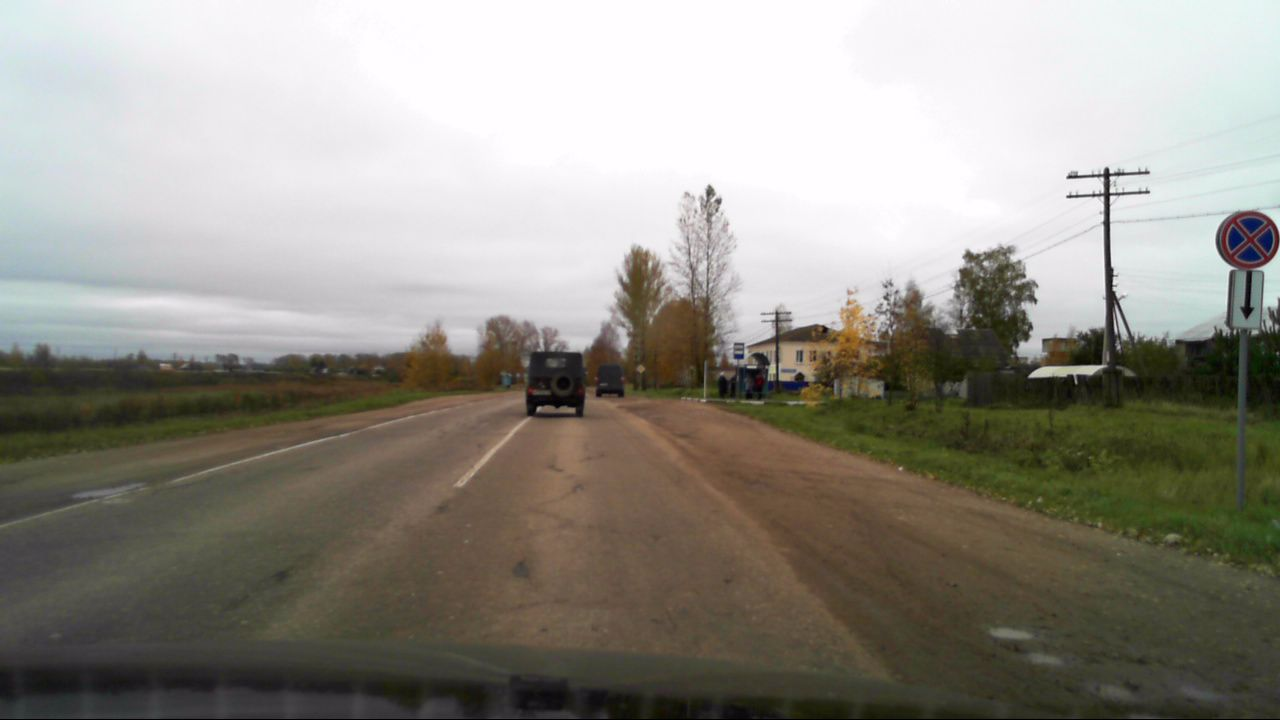No Parking: (1218, 210, 1278, 269)
